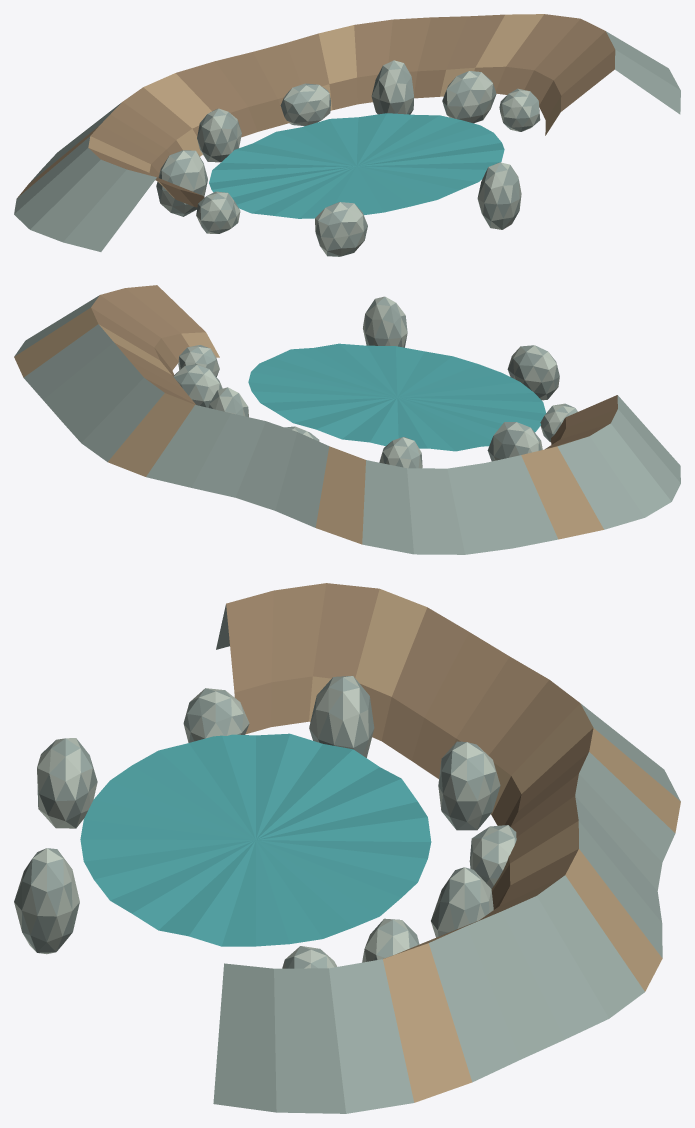
The model's file is mdl_env_pond_basin.glb.
3 views of the same model, one above another, from view 1: azimuth 30°, elevation 25°; view 2: azimuth 150°, elevation 25°; view 3: azimuth 270°, elevation 25° (orthographic). The views are drawn at different scales.
Visible parts, largest first — view 1: Pond bank | sculpted loam rim, Pond bank | open water pocket, Shore stone 07, Shore stone 08, Shore stone 01, Shore stone 05, Shore stone 02, Shore stone 04, Shore stone 03, Shore stone 06, Shore stone 00; view 2: Pond bank | sculpted loam rim, Pond bank | open water pocket, Shore stone 07, Shore stone 08, Shore stone 05, Shore stone 01, Shore stone 04, Shore stone 02, Shore stone 00, Shore stone 06; view 3: Pond bank | sculpted loam rim, Pond bank | open water pocket, Shore stone 08, Shore stone 07, Shore stone 04, Shore stone 05, Shore stone 02, Shore stone 06, Shore stone 03, Shore stone 01, Shore stone 00.
Part boxes in pixels (x1,y1,x2,y2): Pond bank | sculpted loam rim: (14,14,680,251); Pond bank | open water pocket: (209,113,504,218); Shore stone 07: (315,202,367,256); Shore stone 08: (477,162,521,229); Shore stone 01: (442,71,496,123); Shore stone 05: (156,150,207,216); Shore stone 02: (371,60,414,114); Shore stone 04: (197,108,241,162); Shore stone 03: (280,83,330,126); Shore stone 06: (196,191,240,233); Shore stone 00: (499,88,540,131); Pond bank | sculpted loam rim: (14,285,680,554); Pond bank | open water pocket: (248,343,545,451); Shore stone 07: (507,345,559,400); Shore stone 08: (363,296,407,347); Shore stone 05: (487,422,542,461); Shore stone 01: (173,364,222,407); Shore stone 04: (379,437,422,468); Shore stone 02: (208,387,248,417); Shore stone 00: (178,345,219,376); Shore stone 06: (540,403,577,442); Pond bank | sculpted loam rim: (213,583,680,1113); Pond bank | open water pocket: (80,733,431,946); Shore stone 08: (14,848,79,954); Shore stone 07: (37,738,97,828); Shore stone 04: (438,741,500,830); Shore stone 05: (309,675,374,757); Shore stone 02: (431,867,493,937); Shore stone 06: (183,688,249,742); Shore stone 03: (469,825,516,888); Shore stone 01: (362,918,419,962); Shore stone 00: (282,946,337,968).
Bounding box in the file's own units: 8.31 × 1.11 × 4.71.
